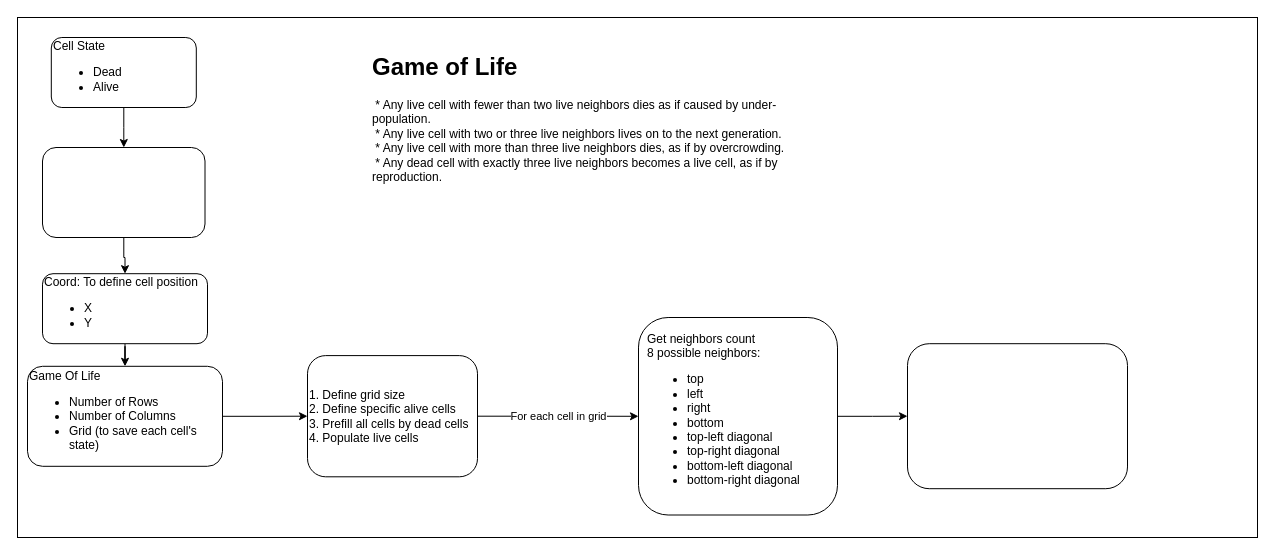
This 1275x555 diagram has some shape labels left out. Here are the shapes that lost their labels. From the top down, the centre of each, then its label:
point 123,192: Cell state living neighbors count
point 1017,416: Apply algorithm to generate next cell state Update the grid
